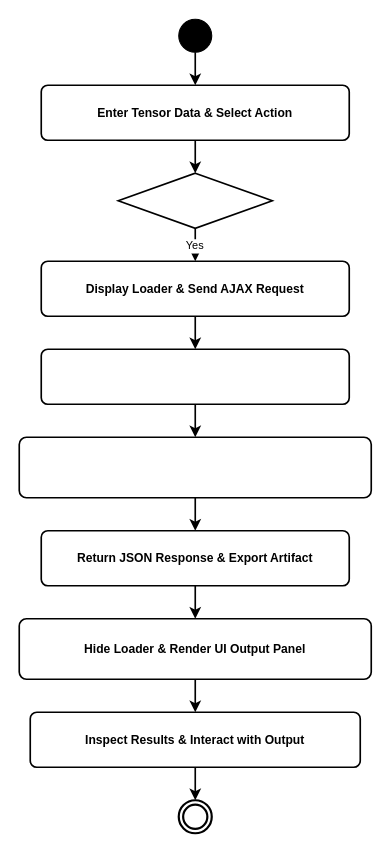
The diagram is 392 pixels wide and 854 high, and some of its shapes have lost their labels. Each missing label, with the centre of its shape:
Execute Selected Algorithm & Analytics: the point at 195,467
Input Valid?: the point at 195,200
Parse Tensor Input: the point at 195,376
